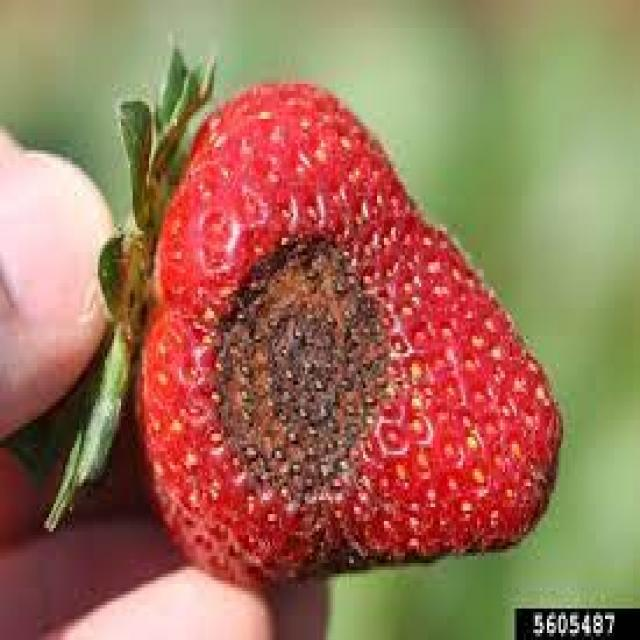Mancha negra Antracnosis: (123, 52, 572, 568)
